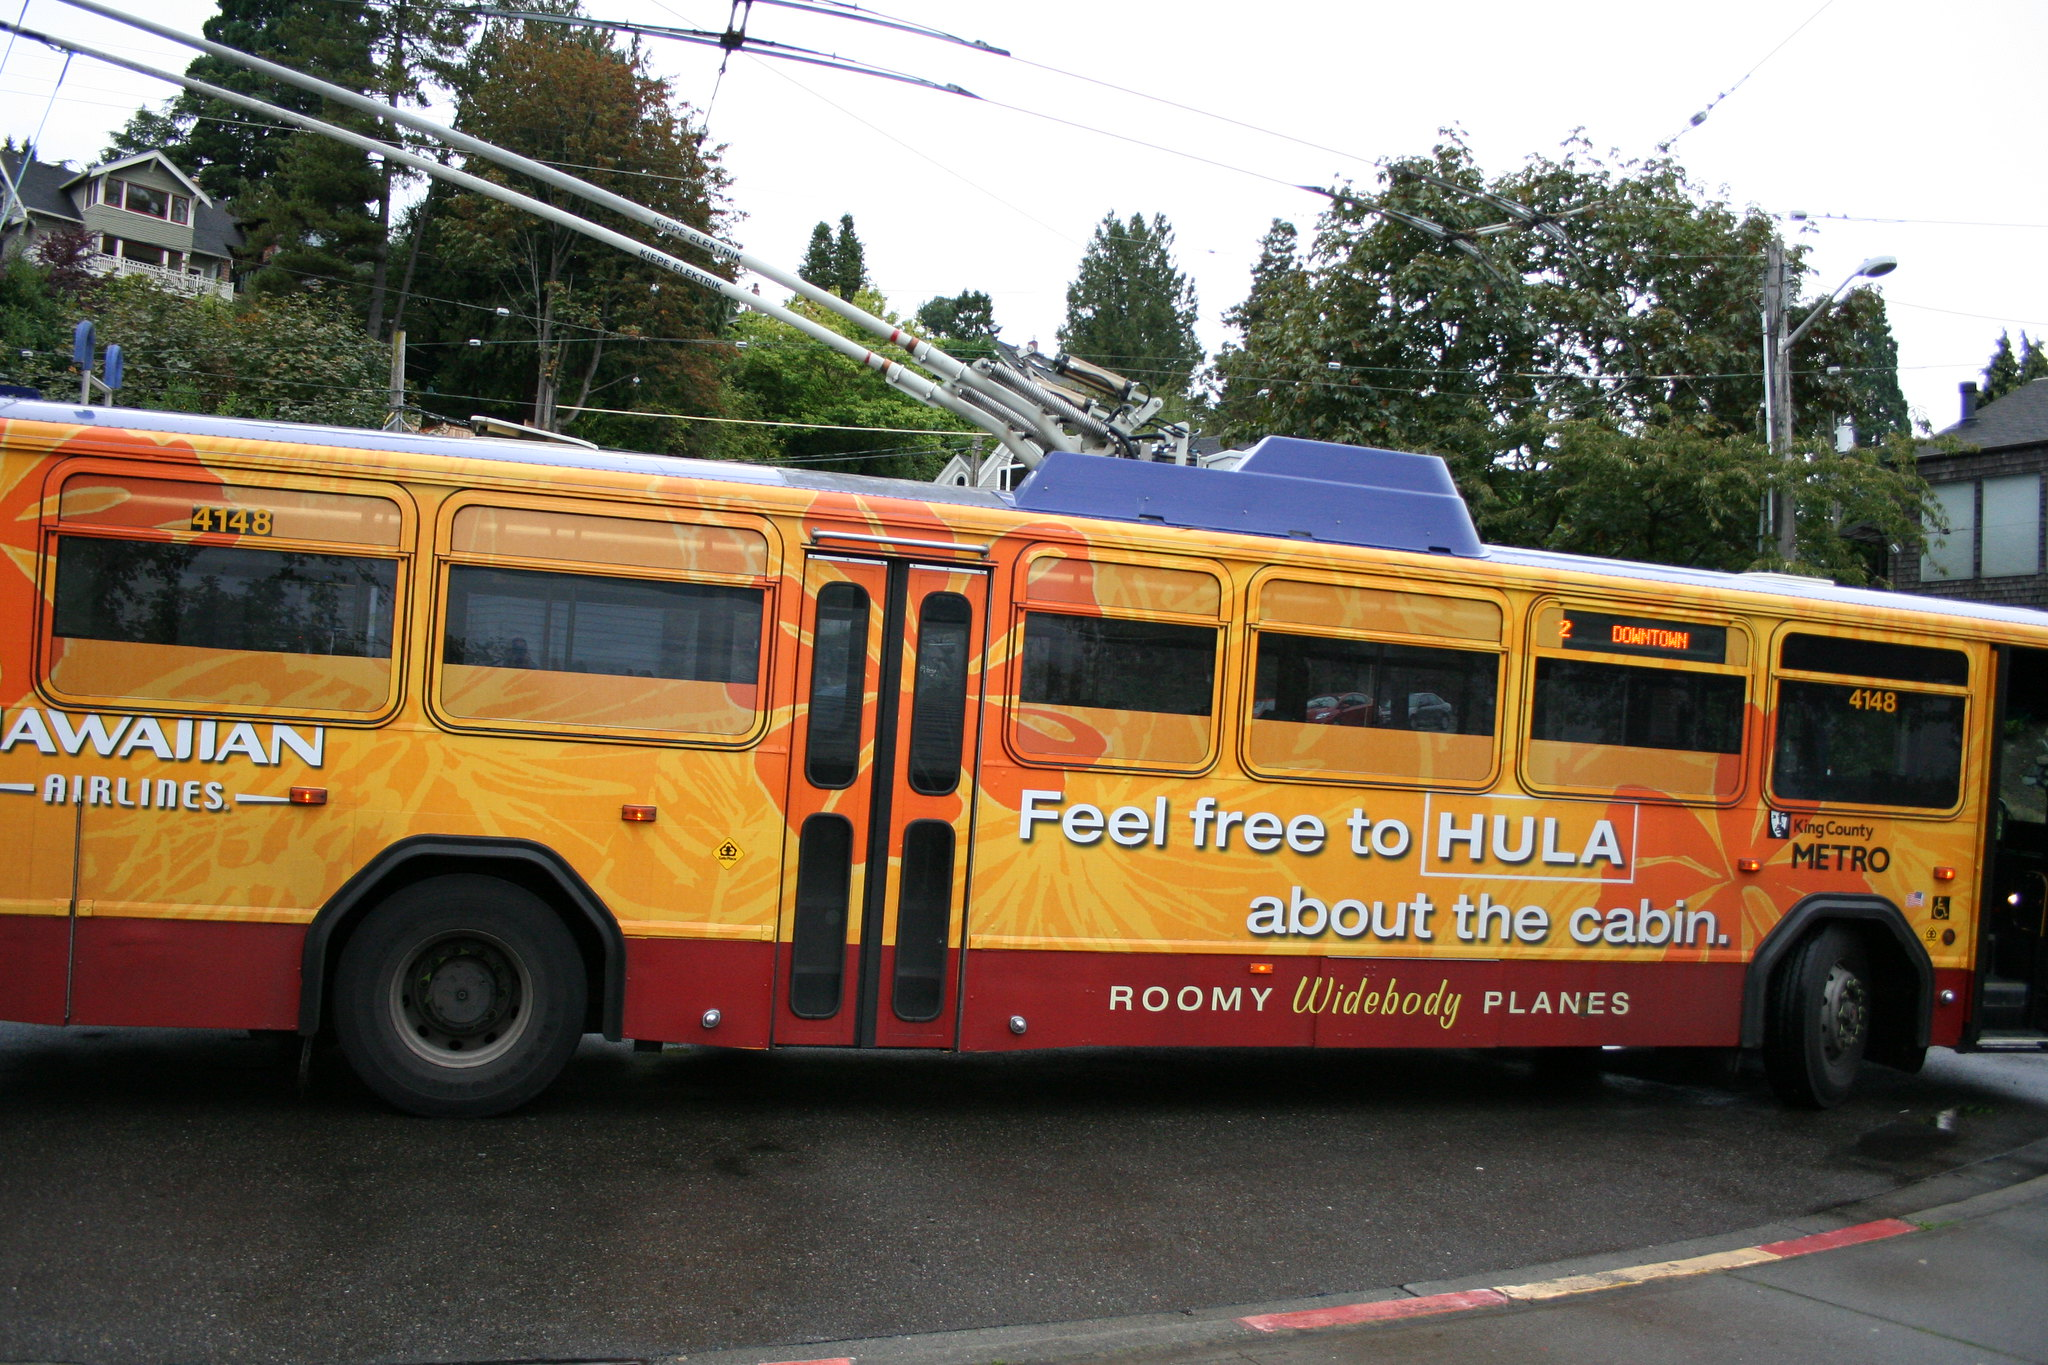bus: (3, 309, 2048, 1129)
